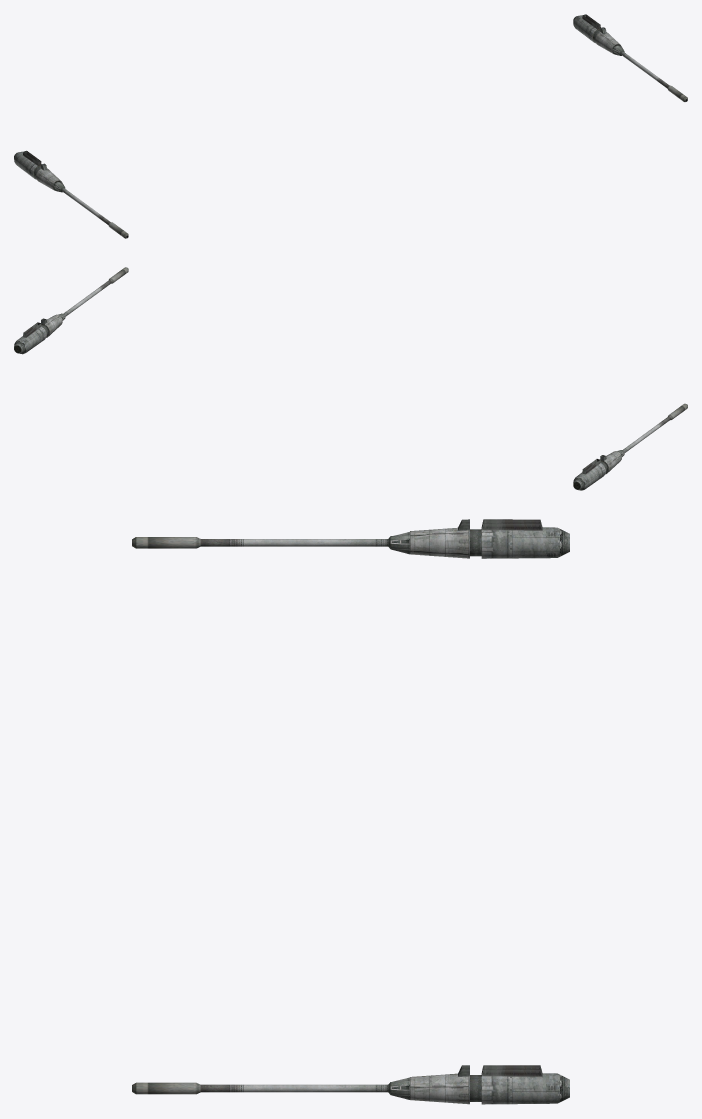
File: hutt_fighter_heavy_weapon2_s05_l0.fbx
3 views of the same model, one above another, from view 1: azimuth 30°, elevation 25°; view 2: azimuth 150°, elevation 25°; view 3: azimuth 270°, elevation 25° (orthographic). The views are drawn at different scales.
Parts seen in each view (by area): view 1: mesh_node; view 2: mesh_node; view 3: mesh_node.
Part boxes in pixels (bbox=[...]): mesh_node: bbox=[14, 14, 687, 238]; mesh_node: bbox=[14, 267, 687, 490]; mesh_node: bbox=[132, 519, 569, 1104].
Size of the model in its own units: 26.59 by 0.7971 by 8.8.
Materials: 1 (1 with a texture image).
